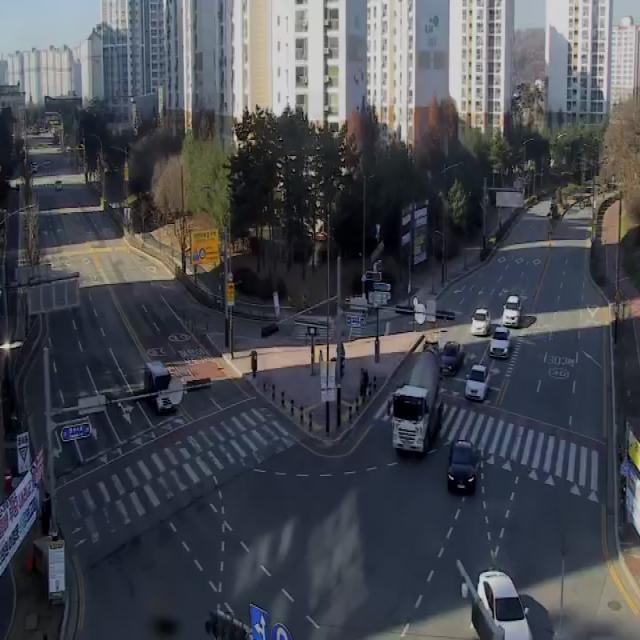Car: (476, 570, 533, 640), (447, 442, 479, 496), (438, 340, 465, 375), (465, 365, 490, 402), (490, 326, 513, 359), (503, 296, 522, 326), (471, 309, 492, 335)
Truck: (387, 340, 444, 457), (145, 359, 176, 412)
